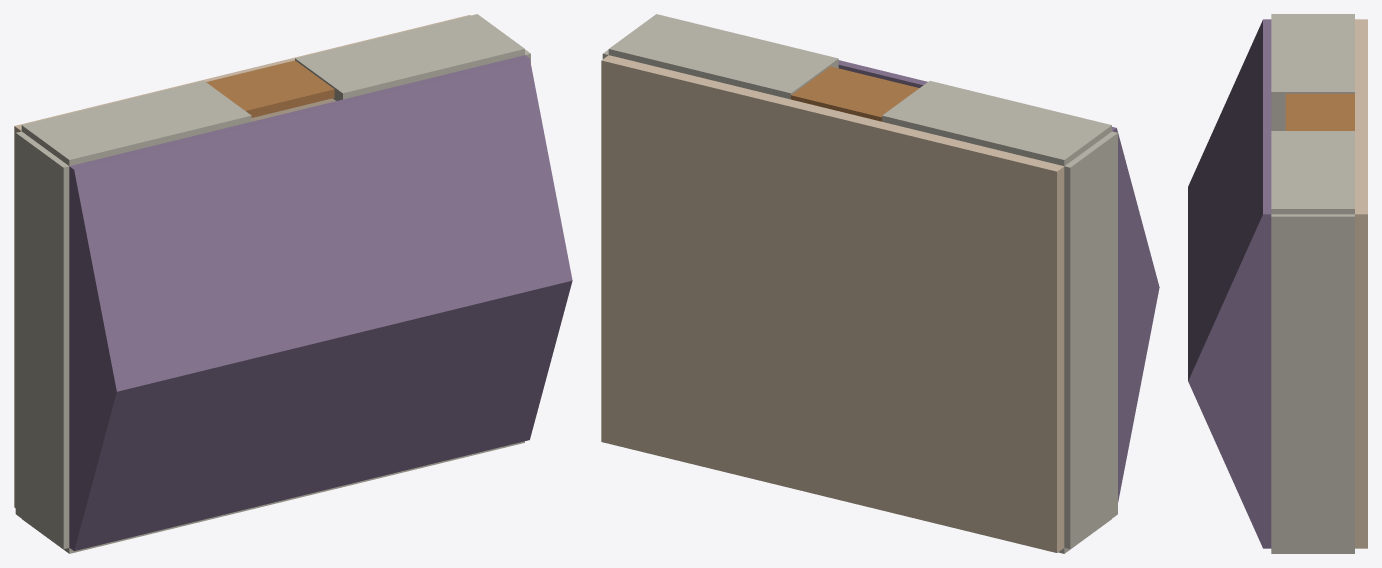
Rendered from rose-manor.obj.
3 views of the same model, side by side, from view 1: azimuth 30°, elevation 25°; view 2: azimuth 150°, elevation 25°; view 3: azimuth 270°, elevation 25° (orthographic). The views are drawn at different scales.
Visible parts, largest first — view 1: roof_tile0-2, roof_tile0-3, roof_tile1-3, roof_tile3-3, roof_tile4-3, roof_tile2-3, roof_tile4-2, roof_tile2-2, roof_tile1-2, roof_tile3-2, roof_tile0-1, roof_tile0-0 (+17 smaller); view 2: foundation_tile0-3, foundation_tile0-1, foundation_tile0-2, foundation_tile0-0, foundation_tile1-3, foundation_tile4-3, foundation_tile2-3, foundation_tile3-3, foundation_tile2-0, foundation_tile2-2, foundation_tile3-2, foundation_tile4-1 (+22 smaller); view 3: walls_edge12, walls_edge9, walls_edge10, walls_edge11, roof_tile4-2, roof_tile4-1, roof_tile4-3, walls_edge16, walls_edge14, walls_edge13, walls_edge15, door_whole (+19 smaller).
Boxes of the visible parts, left/top/right/bottom form: roof_tile0-2: left=69, top=258, right=207, bottom=391; roof_tile0-3: left=69, top=144, right=186, bottom=280; roof_tile1-3: left=161, top=122, right=277, bottom=258; roof_tile3-3: left=343, top=77, right=459, bottom=213; roof_tile4-3: left=434, top=55, right=550, bottom=191; roof_tile2-3: left=252, top=99, right=368, bottom=235; roof_tile4-2: left=460, top=169, right=572, bottom=302; roof_tile2-2: left=278, top=214, right=390, bottom=347; roof_tile1-2: left=187, top=236, right=298, bottom=369; roof_tile3-2: left=369, top=192, right=481, bottom=324; roof_tile0-1: left=69, top=357, right=207, bottom=471; roof_tile0-0: left=69, top=449, right=186, bottom=551; foundation_tile0-3: left=966, top=144, right=1064, bottom=266; foundation_tile0-1: left=966, top=340, right=1064, bottom=457; foundation_tile0-2: left=966, top=245, right=1064, bottom=362; foundation_tile0-0: left=966, top=435, right=1064, bottom=552; foundation_tile1-3: left=874, top=122, right=972, bottom=244; foundation_tile4-3: left=601, top=55, right=699, bottom=177; foundation_tile2-3: left=783, top=99, right=881, bottom=222; foundation_tile3-3: left=692, top=77, right=790, bottom=200; foundation_tile2-0: left=783, top=391, right=874, bottom=508; foundation_tile2-2: left=783, top=200, right=874, bottom=317; foundation_tile3-2: left=692, top=178, right=783, bottom=295; foundation_tile4-1: left=601, top=251, right=692, bottom=368; walls_edge12: left=1271, top=214, right=1354, bottom=300; walls_edge9: left=1271, top=467, right=1354, bottom=550; walls_edge10: left=1271, top=384, right=1354, bottom=467; walls_edge11: left=1271, top=300, right=1354, bottom=383; roof_tile4-2: left=1188, top=259, right=1271, bottom=381; roof_tile4-1: left=1188, top=381, right=1271, bottom=464; roof_tile4-3: left=1225, top=175, right=1271, bottom=297; walls_edge16: left=1271, top=170, right=1354, bottom=214; walls_edge14: left=1271, top=53, right=1354, bottom=102; walls_edge13: left=1271, top=14, right=1354, bottom=52; walls_edge15: left=1271, top=131, right=1354, bottom=169; door_whole: left=1285, top=93, right=1354, bottom=130.
Size of the model in its own units: 5.13 by 4.13 by 1.95.
